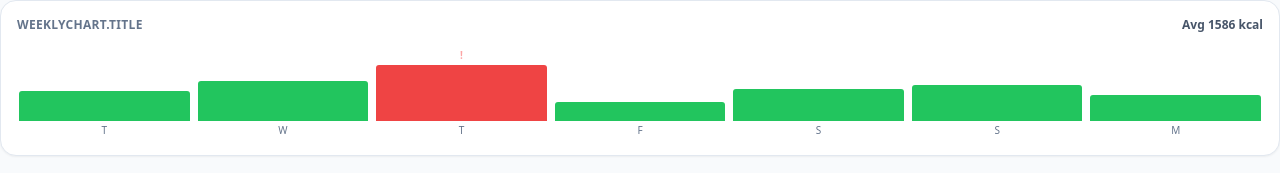
Test: WeeklyCaloriesChart › shows that day’s total, and returns to the average when deselected
The width and height of the screenshot is (1280, 173).
Click the button "! T".
click(462, 92)  # box 374,45 -> 549,139
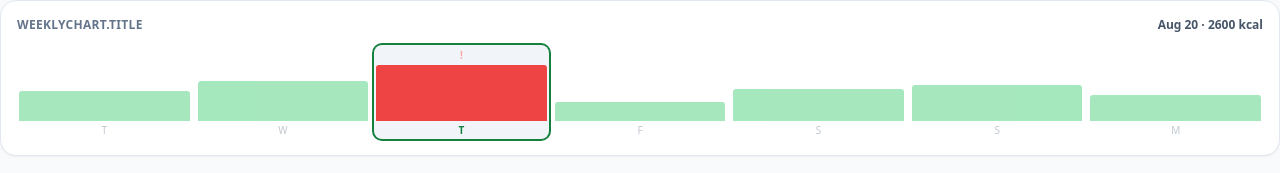
Now the text "Aug 20 · 2600 kcal" is shown, box 1158,17 -> 1263,33
Click the button "! T".
click(462, 92)  # box 374,45 -> 549,139
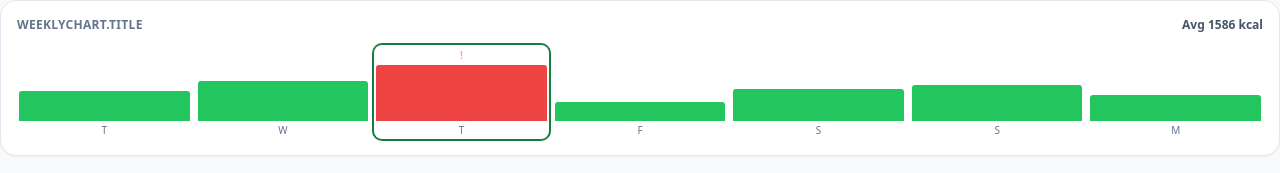
Now the text "Avg 1586 kcal" is shown, box 1182,17 -> 1263,33
